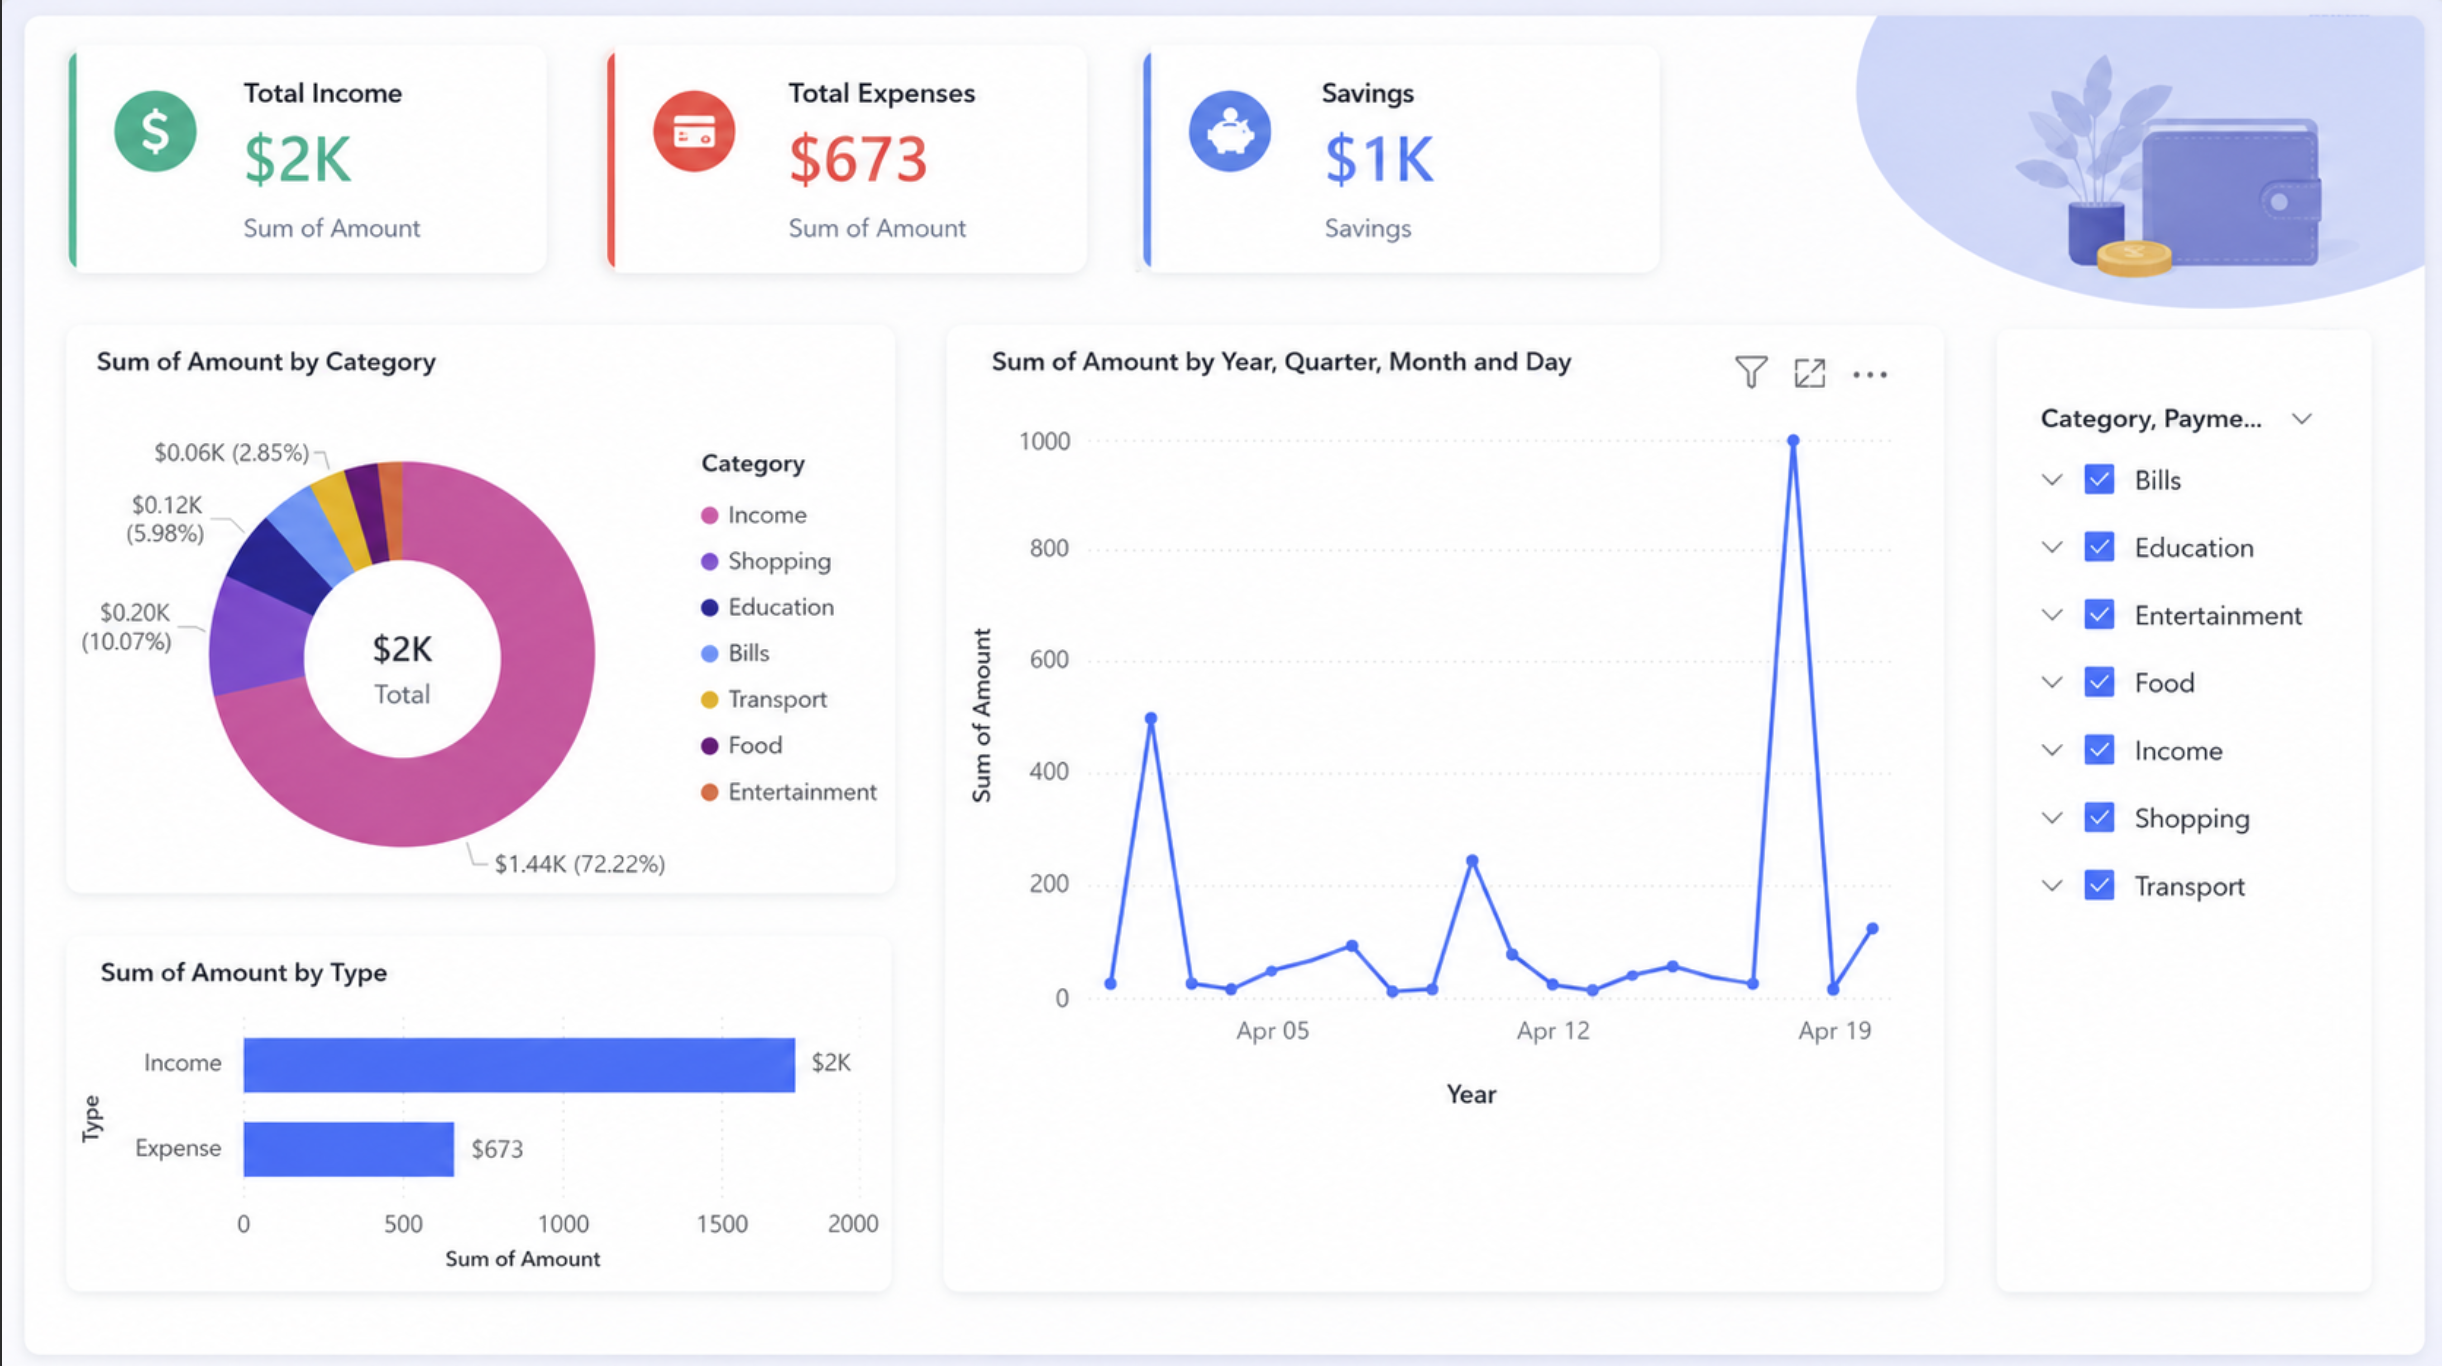

The page's visual inventory and layout, read from the dashboard file:
{"tool":"powerbi","page":{"name":"Student Expense Tracker Dashboard","canvas":[1280,720],"ordinal":0},"visuals":[{"type":"lineChart","fields":{"Category":["Expenses_Table.Date.Variation.Date Hierarchy.Year","Expenses_Table.Date.Variation.Date Hierarchy.Quarter","Expenses_Table.Date.Variation.Date Hierarchy.Month","Expenses_Table.Date.Variation.Date Hierarchy.Day"],"Y":["Sum(Expenses_Table.Amount)"]},"box":[464.8,174.8,449.9,382.3],"z":0},{"type":"pieChart","fields":{"Category":["Expenses_Table.Category"],"Y":["Sum(Expenses_Table.Amount)"]},"box":[9.9,160.9,407.2,265.2],"z":1000},{"type":"clusteredBarChart","fields":{"Category":["Expenses_Table.Type"],"Y":["Sum(Expenses_Table.Amount)"]},"box":[0,478.7,426,210.5],"z":2000},{"type":"cardVisual","title":"Total Income","fields":{"Data":["Sum(Expenses_Table.Amount)"]},"box":[9.9,19.9,172.8,120.2],"z":3000},{"type":"cardVisual","title":"Total Expenses","fields":{"Data":["Sum(Expenses_Table.Amount)"]},"box":[233.4,19.9,172.8,120.2],"z":4000},{"type":"cardVisual","title":"Savings","fields":{"Data":["Expenses_Table.Savings"]},"box":[464.4,20,148.9,127.8],"z":5000},{"type":"slicer","fields":{"Values":["Expenses_Table.Category","Expenses_Table.Payment Method","Expenses_Table.Date"]},"box":[974.2,246.3,173.8,239.3],"z":6000}]}

Visuals, with their boxes in screenshot pixels (x1, y1, x2, y2), scaled from the page's 1280x720 canvas onto the 2442x1366 screenshot:
lineChart - Expenses_Table.Date.Variation.Date Hierarchy.Year x Expenses_Table.Date.Variation.Date Hierarchy.Quarter: 887 332 1745 1057
pieChart - Expenses_Table.Category x Sum(Expenses_Table.Amount): 19 305 796 808
clusteredBarChart - Expenses_Table.Type x Sum(Expenses_Table.Amount): 0 908 813 1308
"Total Income" cardVisual: 19 38 349 266
"Total Expenses" cardVisual: 445 38 775 266
"Savings" cardVisual: 886 38 1170 280
slicer - Expenses_Table.Category x Expenses_Table.Payment Method: 1859 467 2190 921
